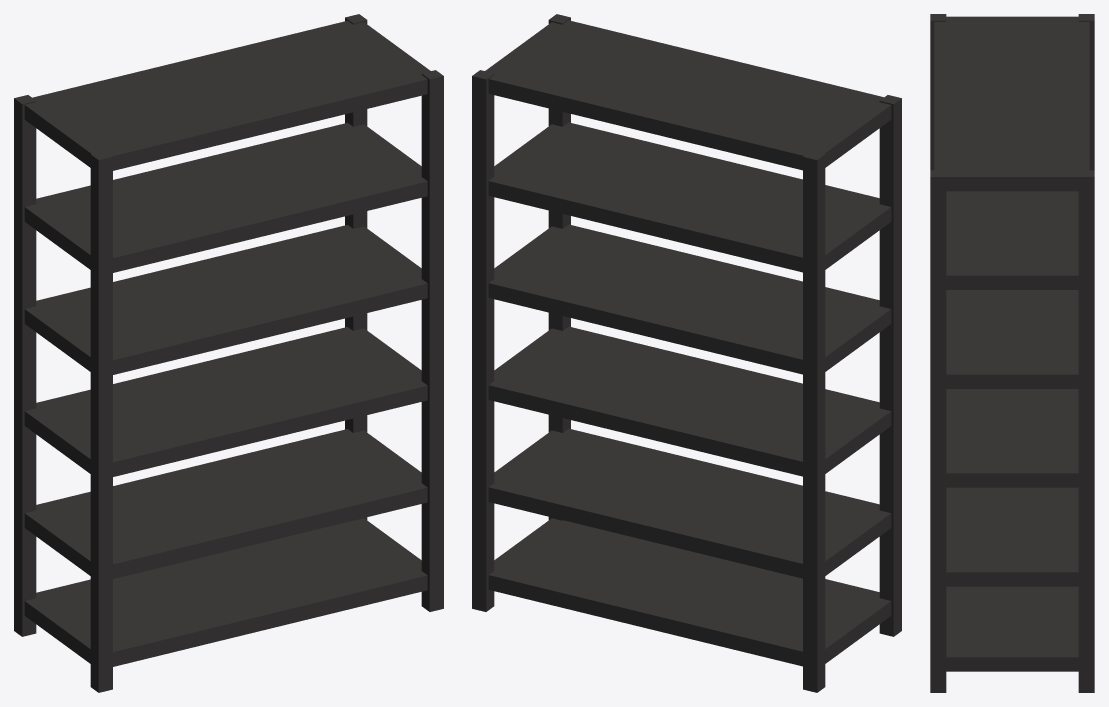
The model's file is LC_3183_shelf_G_LOD1.FBX.
3 views of the same model, side by side, from view 1: azimuth 30°, elevation 25°; view 2: azimuth 150°, elevation 25°; view 3: azimuth 270°, elevation 25° (orthographic). The views are drawn at different scales.
Visible parts, largest first — view 1: LC_3183_shelf_G_LOD1; view 2: LC_3183_shelf_G_LOD1; view 3: LC_3183_shelf_G_LOD1.
Part boxes in pixels (left/top/right/bottom): LC_3183_shelf_G_LOD1: left=14, top=14, right=443, bottom=692; LC_3183_shelf_G_LOD1: left=472, top=14, right=901, bottom=692; LC_3183_shelf_G_LOD1: left=930, top=14, right=1094, bottom=692.
Size of the model in its own units: 122 by 180 by 51.87.
1 material, 1 textured.
